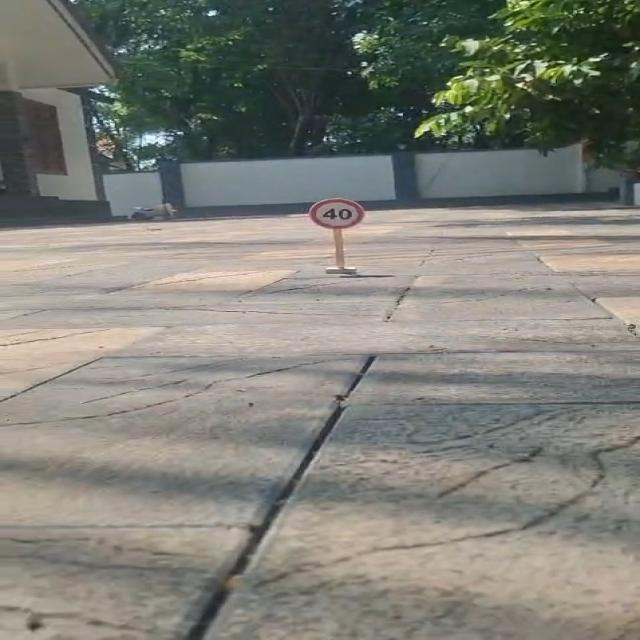Speed40: (306, 195, 368, 232)
